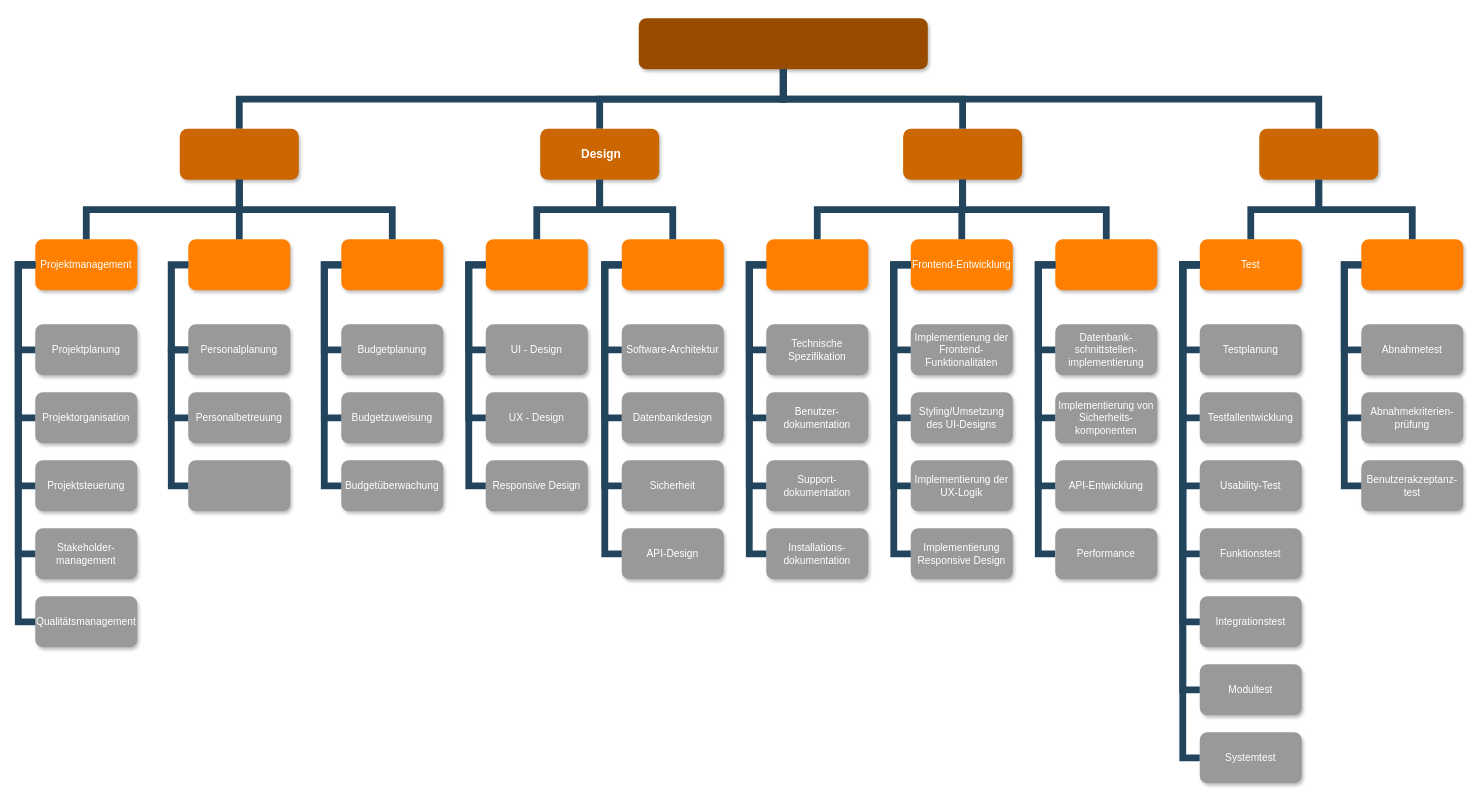
This 1482x803 diagram has some shape labels left out. Each missing label, with the centre of its shape:
Abnahme: (1412,265)
Backend-Entwicklung: (1106,265)
Backenddesign: (673,265)
Budgetmanagement: (392,265)
Dokumentation: (817,265)
Entwicklung: (963,155)
Fastlane: (783,44)
Frontenddesign: (537,265)
Konfliktmanagement: (239,486)
Management: (239,155)
Personalmanagement: (239,265)
Test & Abnahme: (1319,155)
